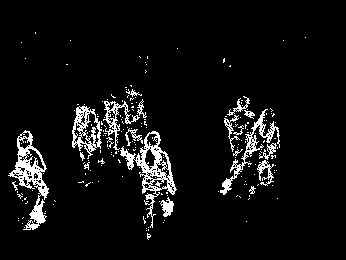person: (131, 129, 175, 239), (12, 129, 48, 232), (224, 95, 259, 198), (251, 109, 280, 197), (71, 102, 100, 186), (102, 95, 127, 174), (121, 86, 145, 163)
